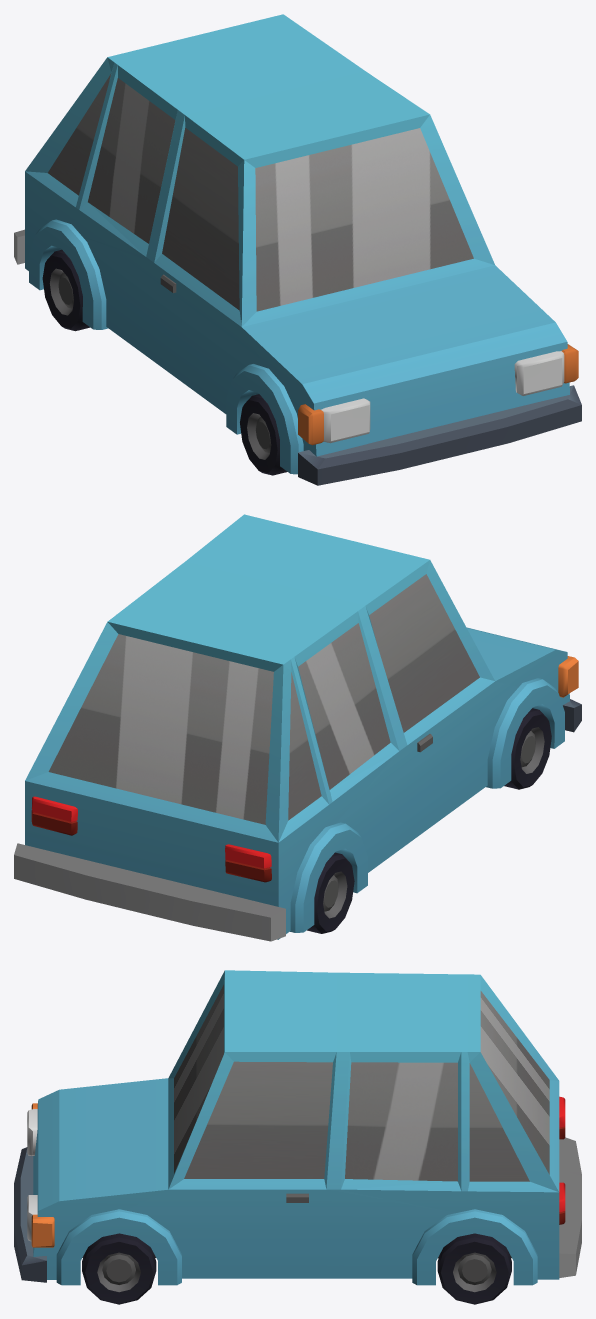
File: Car_1_17.fbx
The picture shows the model from 3 angles, top to bottom: view 1: azimuth 30°, elevation 25°; view 2: azimuth 150°, elevation 25°; view 3: azimuth 270°, elevation 25°; orthographic projection. The views are drawn at different scales.
Parts seen in each view (by area): view 1: Car_1_17, Wheel_Br, Wheel_Fr; view 2: Car_1_17, Wheel_Fr, Wheel_Br; view 3: Car_1_17, Wheel_Fl, Wheel_Bl.
Boxes of the visible parts, x1,y1,x2,y2 form: Car_1_17: (14, 14, 581, 485); Wheel_Br: (42, 249, 89, 331); Wheel_Fr: (240, 394, 287, 475); Car_1_17: (14, 514, 581, 941); Wheel_Fr: (504, 708, 551, 789); Wheel_Br: (307, 852, 354, 933); Car_1_17: (14, 970, 581, 1285); Wheel_Fl: (82, 1233, 156, 1304); Wheel_Bl: (437, 1233, 511, 1304).
Bounding box in the file's own units: 1.05 × 0.9433 × 2.07.
